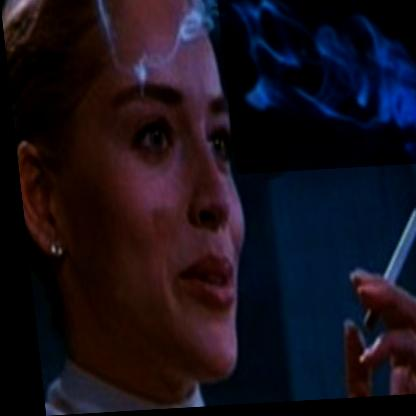smoke: (216, 0, 416, 177)
